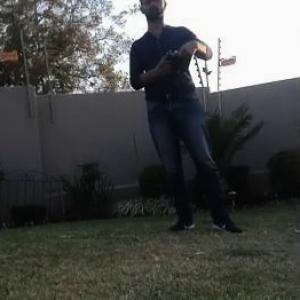follow: (124, 0, 247, 238)
